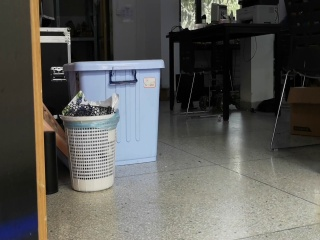room: (6, 4, 320, 227)
